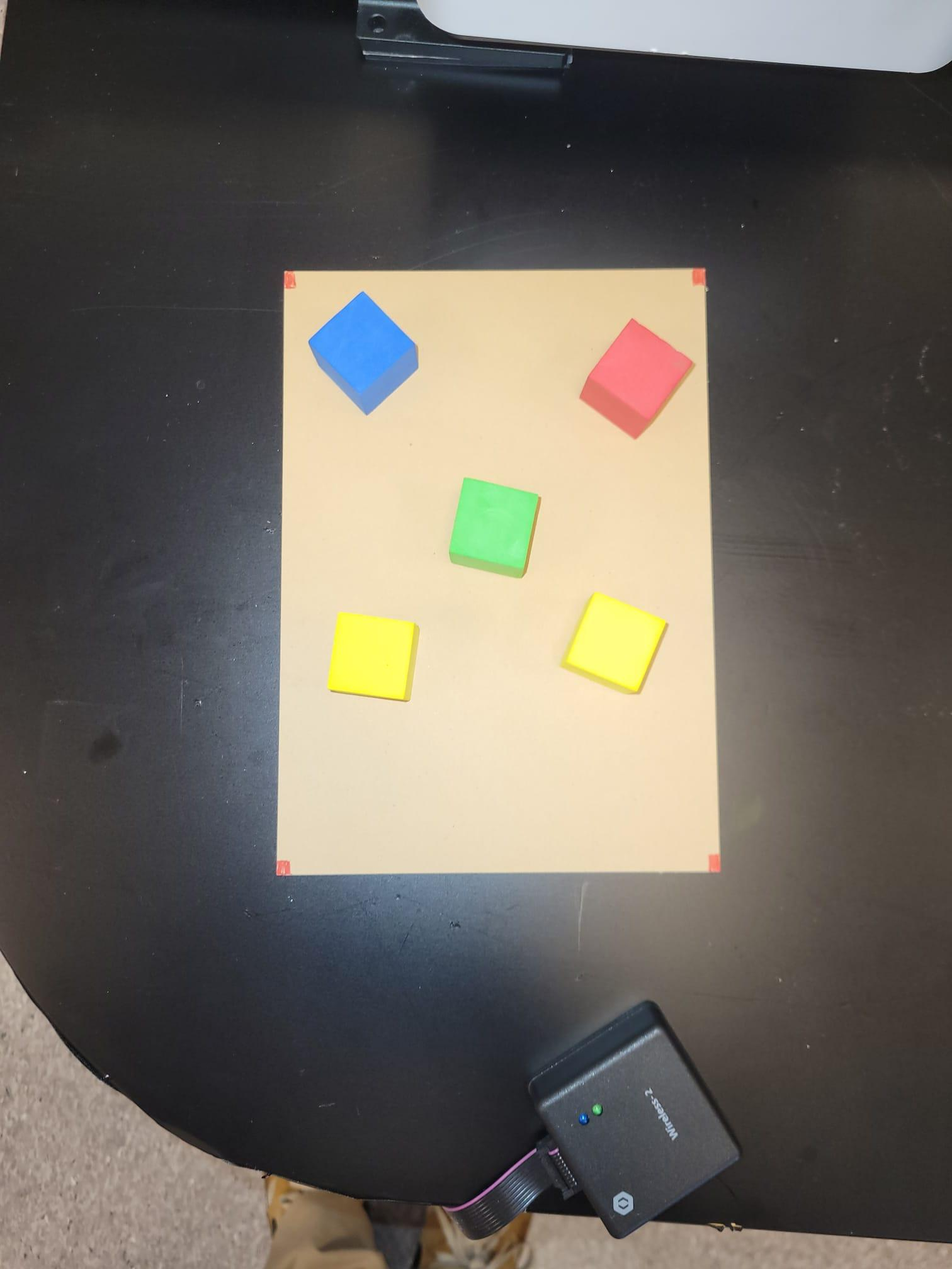cube: (579, 319, 694, 439), (312, 291, 416, 414), (562, 592, 671, 696), (445, 474, 541, 581), (318, 609, 425, 705)
